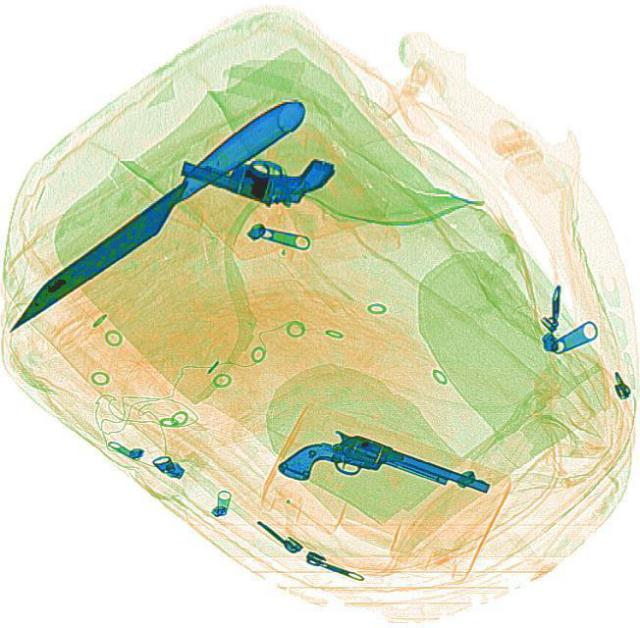Gun: (276, 412, 492, 537), (176, 124, 334, 217)
Knife: (0, 87, 312, 335)
